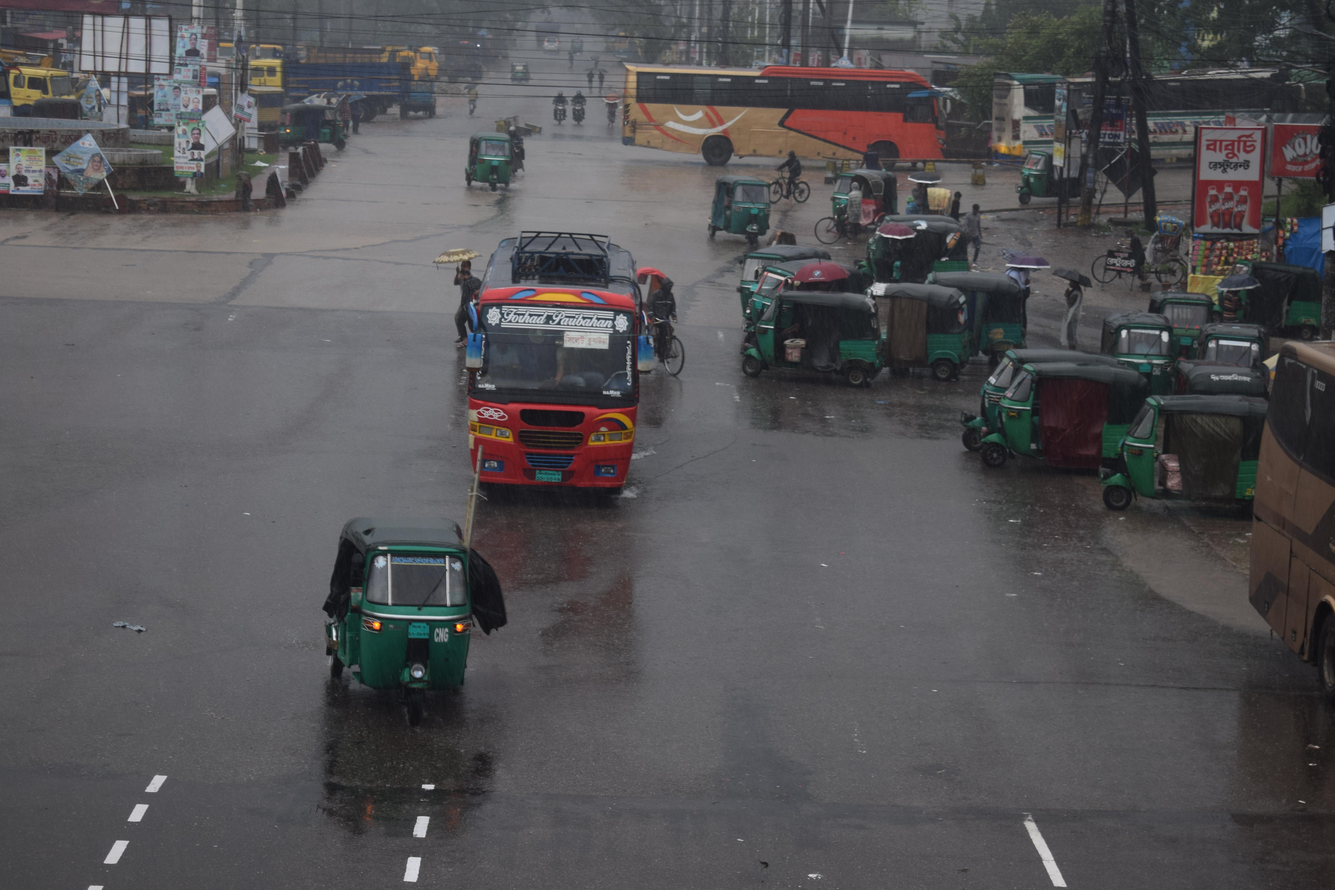Bike: (542, 69, 578, 134), (567, 88, 595, 131)
Bus: (424, 200, 668, 531), (969, 30, 1335, 216), (594, 42, 972, 200), (1221, 300, 1335, 738)
Truck: (234, 29, 410, 127), (0, 24, 92, 145)
